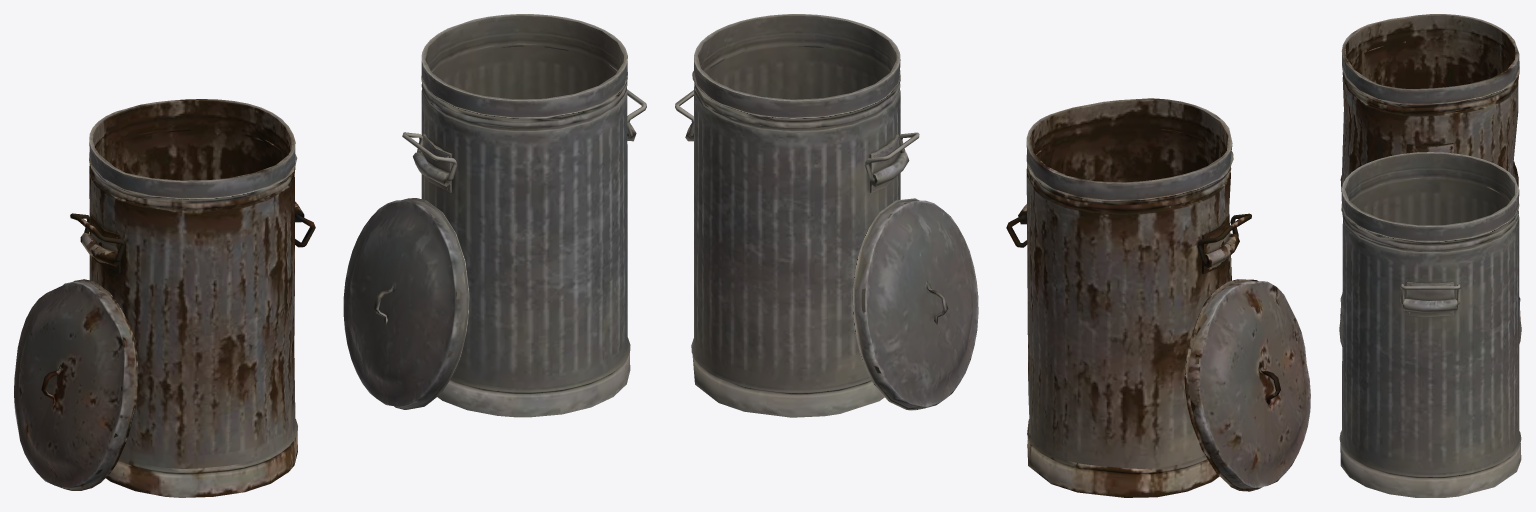
Rendered from metal_trash_can.glb.
3 views of the same model, side by side, from view 1: azimuth 30°, elevation 25°; view 2: azimuth 150°, elevation 25°; view 3: azimuth 270°, elevation 25° (orthographic). The views are drawn at different scales.
Visible parts, largest first — view 1: metal_trash_can, metal_trash_can_rust, metal_trash_can_lid, metal_trash_can_rust_lid; view 2: metal_trash_can, metal_trash_can_rust, metal_trash_can_lid, metal_trash_can_rust_lid; view 3: metal_trash_can, metal_trash_can_rust, metal_trash_can_handle_right.
Boxes of the visible parts, x1=… form: metal_trash_can: x1=413, y1=14, x2=636, y2=417; metal_trash_can_rust: x1=80, y1=99, x2=304, y2=497; metal_trash_can_lid: x1=343, y1=198, x2=469, y2=409; metal_trash_can_rust_lid: x1=14, y1=279, x2=137, y2=490; metal_trash_can: x1=685, y1=14, x2=909, y2=417; metal_trash_can_rust: x1=1018, y1=98, x2=1239, y2=497; metal_trash_can_lid: x1=852, y1=198, x2=978, y2=410; metal_trash_can_rust_lid: x1=1184, y1=279, x2=1310, y2=491; metal_trash_can: x1=1339, y1=152, x2=1521, y2=497; metal_trash_can_rust: x1=1340, y1=14, x2=1520, y2=320; metal_trash_can_handle_right: x1=1400, y1=284, x2=1460, y2=304.
Size of the model in its own units: 1.78 by 0.9062 by 0.5543.
2 materials, 2 textured.
